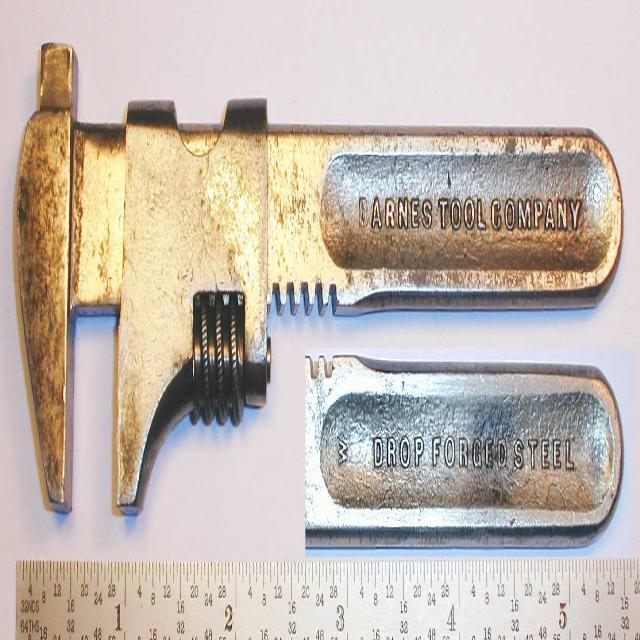wrench: (9, 31, 628, 546)
